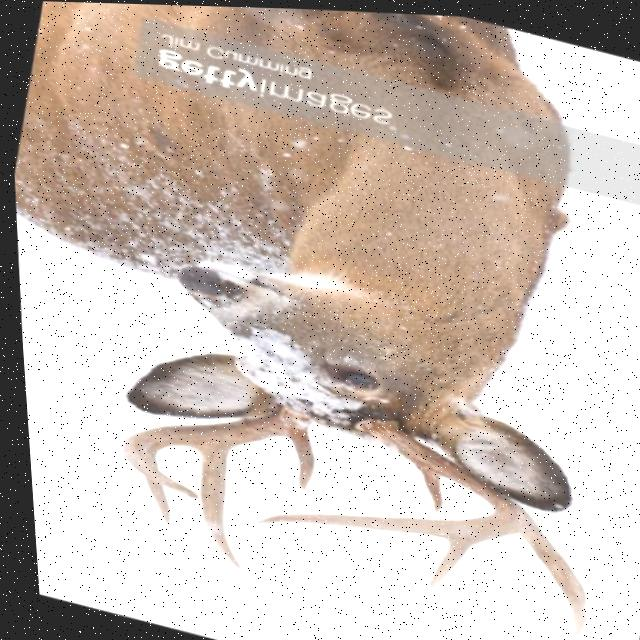L-F: (246, 417, 518, 542)
L-G1: (407, 462, 436, 511)
L-G2: (511, 505, 578, 637)
L-G3: (418, 537, 466, 588)
R-F: (115, 402, 304, 499)
R-G1: (281, 428, 308, 491)
R-G2: (190, 448, 236, 570)
